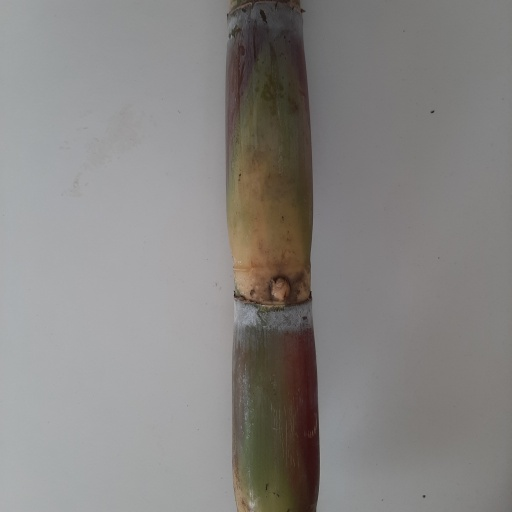Bud: (267, 275, 294, 307)
